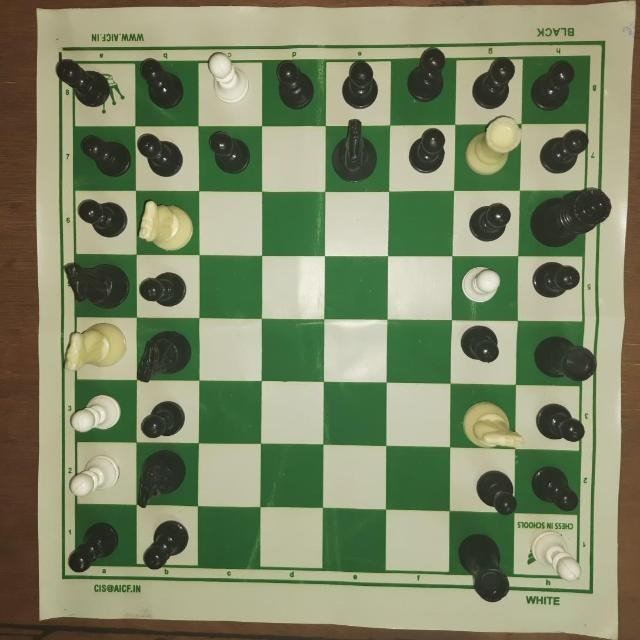black-knight: (59, 260, 133, 312), (133, 448, 193, 509), (137, 327, 195, 388), (328, 121, 382, 185)
black-pawn: (59, 517, 125, 578), (51, 54, 112, 109), (140, 517, 197, 574), (137, 396, 198, 446), (137, 53, 187, 111), (404, 41, 448, 106), (72, 192, 132, 239), (528, 462, 583, 513), (526, 258, 586, 304), (530, 397, 588, 444), (462, 197, 514, 249), (453, 320, 506, 370), (273, 53, 317, 113), (469, 54, 513, 114), (77, 133, 132, 181), (542, 126, 592, 176), (530, 59, 578, 111), (473, 467, 519, 521), (135, 267, 192, 310), (136, 131, 184, 181), (339, 52, 379, 111), (207, 127, 254, 177), (404, 126, 448, 178)
black-queen: (531, 185, 615, 247)
black-rook: (454, 529, 516, 603), (531, 332, 599, 386)
white-knight: (61, 320, 132, 380), (458, 395, 525, 451), (136, 193, 198, 253)
white-pawn: (530, 529, 586, 587), (201, 47, 251, 108), (66, 452, 126, 499), (453, 259, 506, 310), (66, 390, 124, 436)
white-rook: (463, 116, 525, 180)
